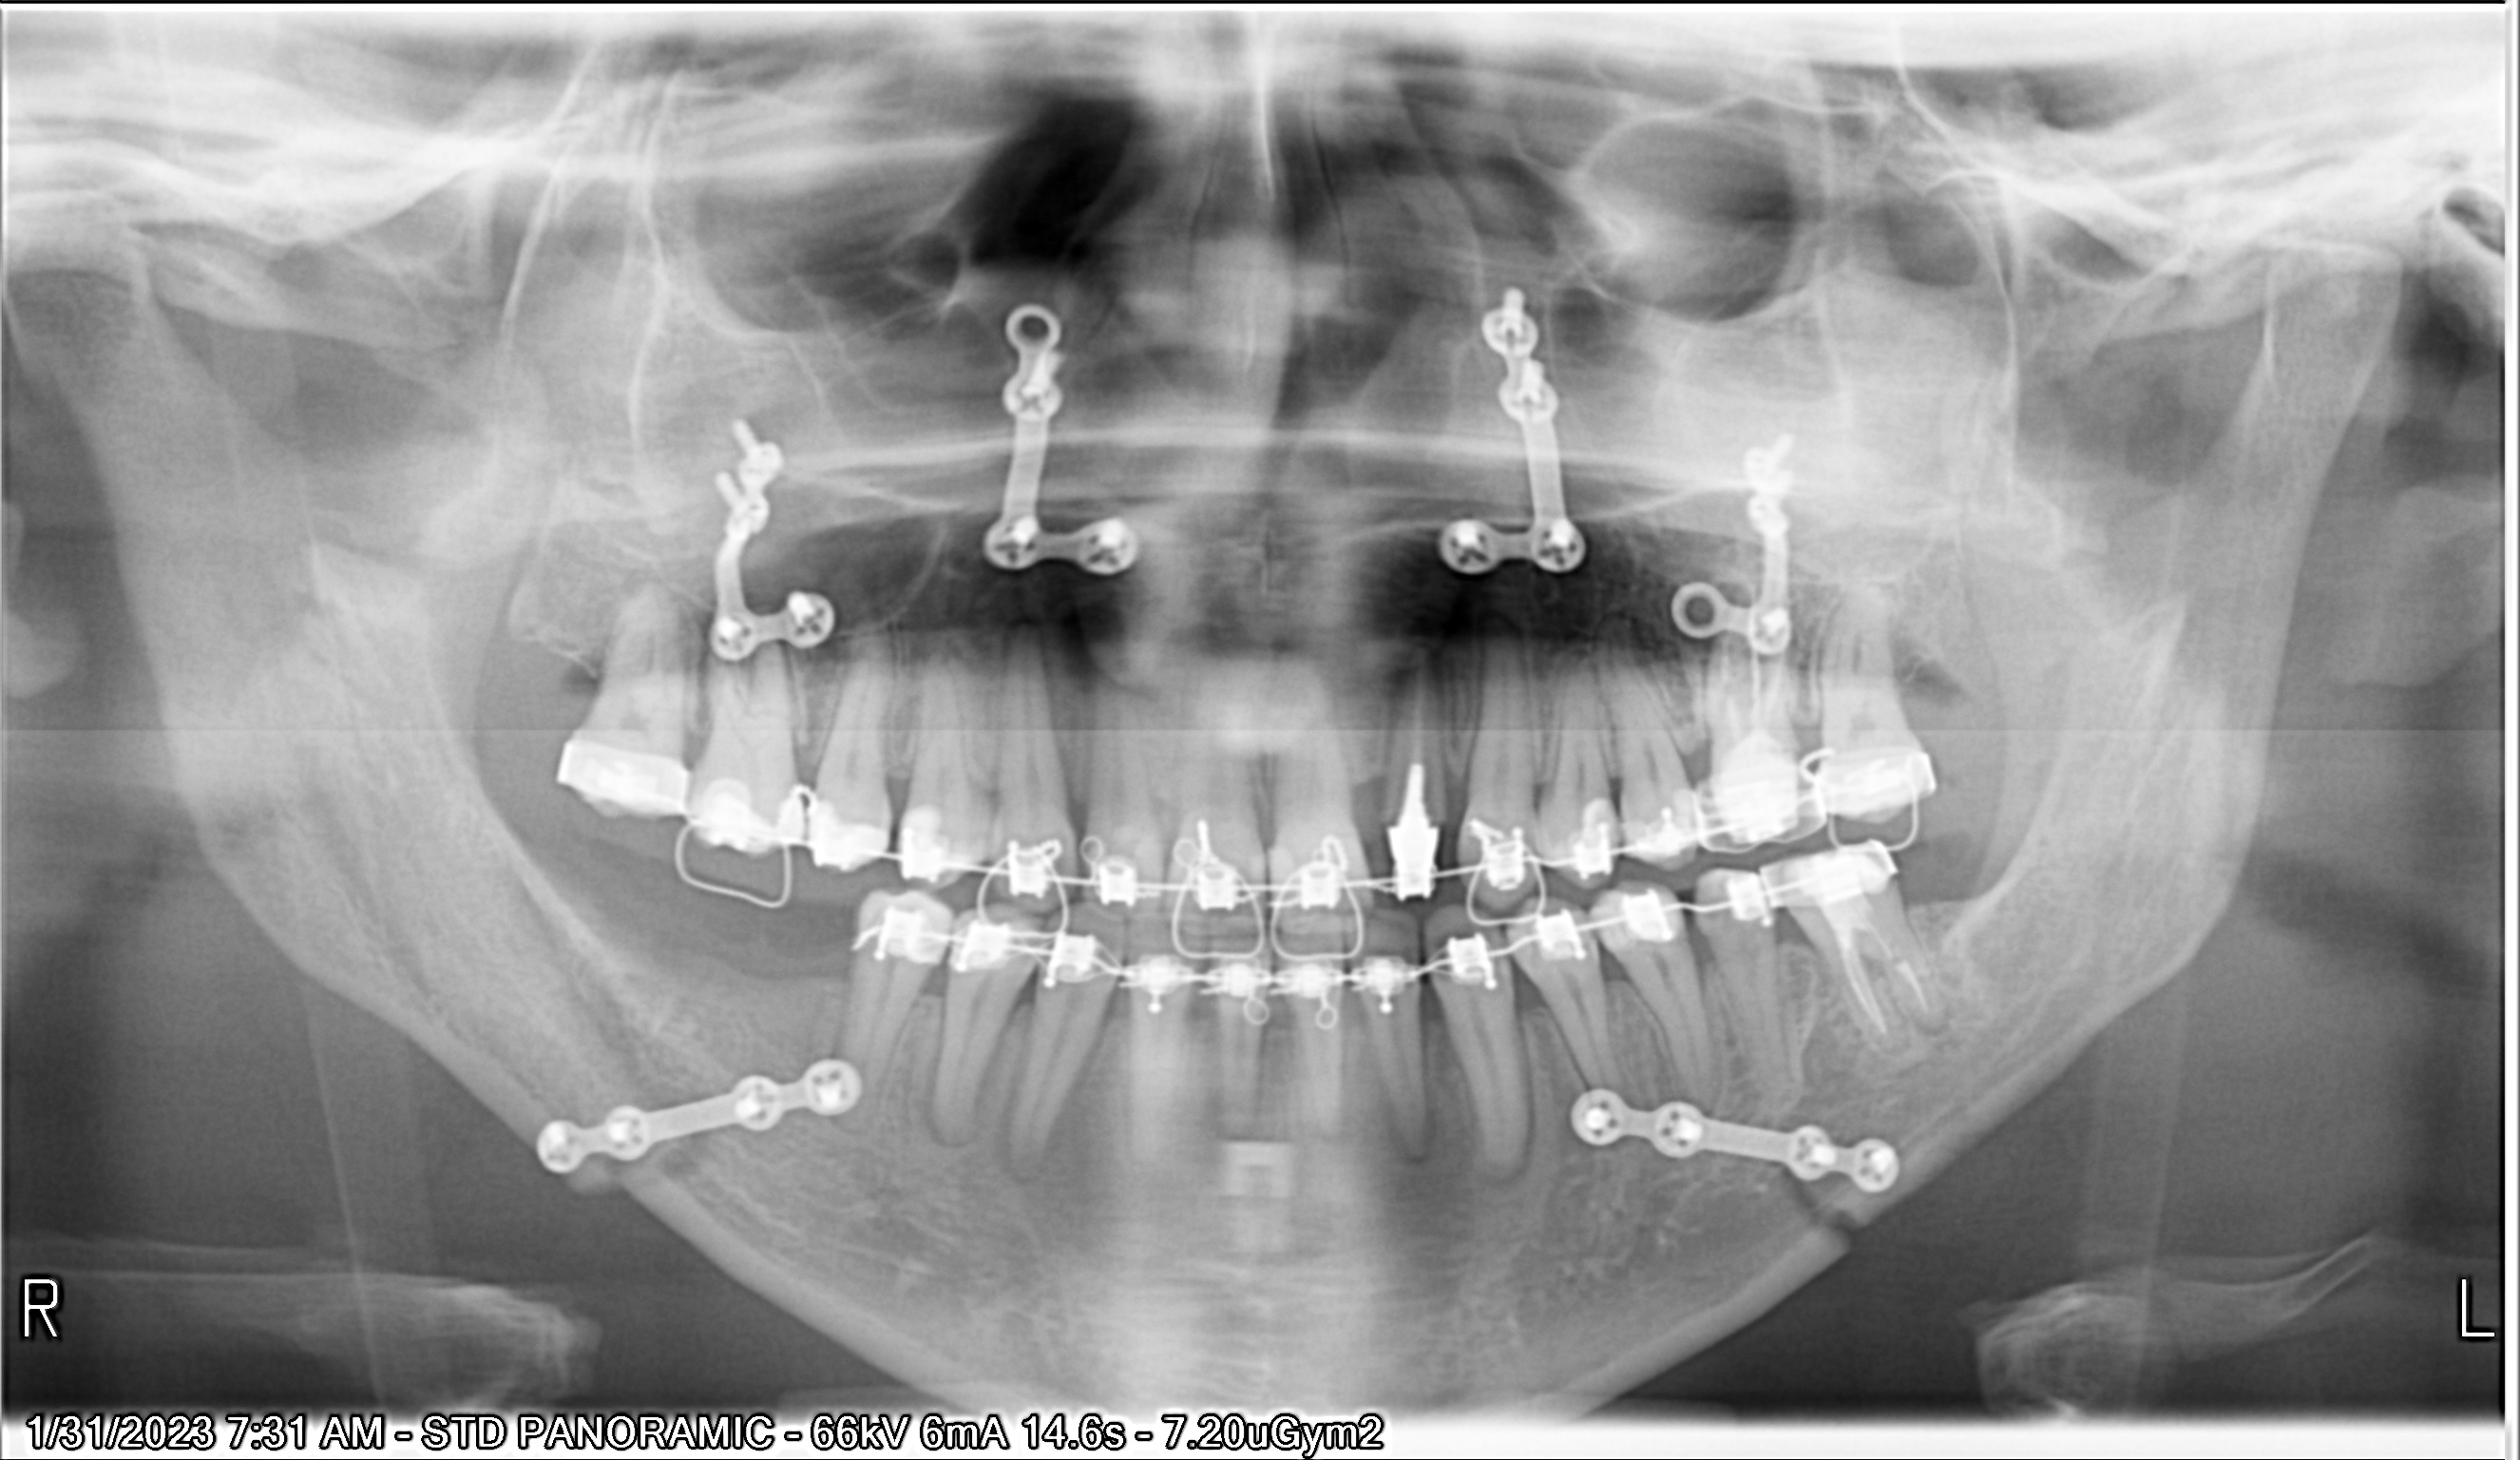END: (1799, 912, 1980, 1048), (1382, 648, 1468, 780)
ORD: (502, 709, 1982, 954), (782, 777, 1963, 1057)
PRR: (1362, 777, 1464, 926)
SRD: (464, 1024, 903, 1234), (938, 280, 1193, 600), (1530, 1045, 1926, 1234), (1388, 280, 1598, 615), (653, 389, 874, 683), (1624, 395, 1848, 667)
